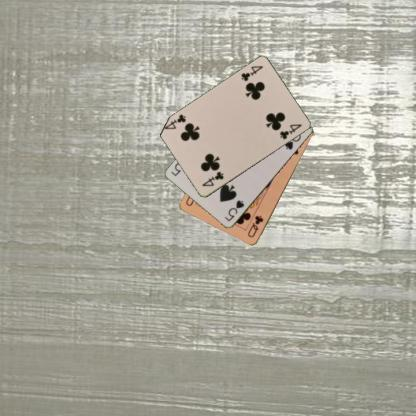4c: (200, 168, 226, 187), (238, 63, 264, 82)
5s: (222, 198, 245, 223)
Qc: (246, 214, 264, 238)
